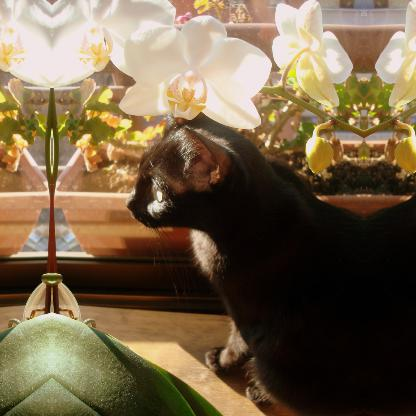Cat: (125, 110, 363, 414), (365, 109, 415, 415)
